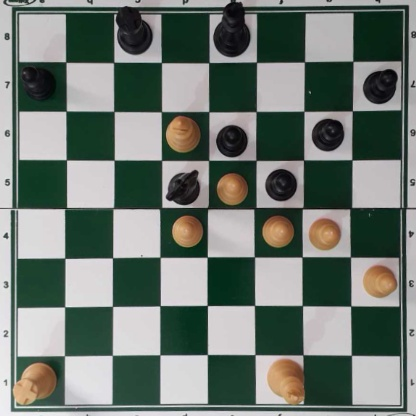black-king: (211, 1, 251, 59)
black-knight: (166, 167, 201, 205)
black-pawn: (362, 67, 398, 105), (20, 64, 55, 99), (214, 121, 248, 157), (264, 166, 298, 201), (311, 117, 344, 151)
black-rook: (114, 5, 155, 53)
white-bishop: (165, 112, 200, 153)
white-king: (266, 356, 305, 404)
white-pawn: (362, 264, 398, 297), (213, 171, 249, 204), (308, 216, 342, 250), (261, 214, 294, 248), (170, 215, 203, 247)
white-rook: (12, 361, 59, 404)
